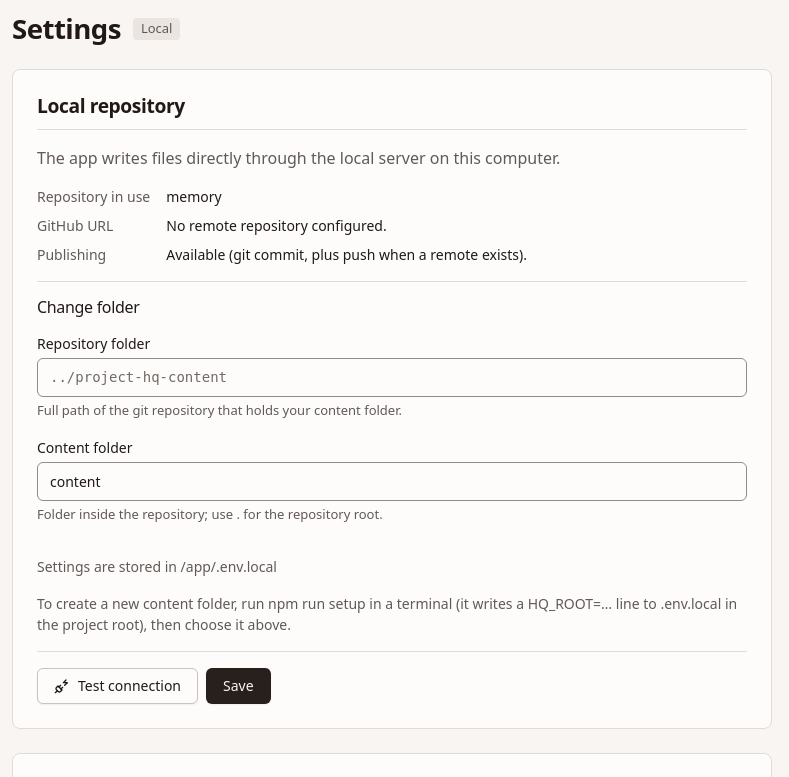
local repository form › shows a translated error for a missing folder
Type "/x" into the field labelled "Repository folder" at x=392, y=378, box [37, 358, 747, 397]
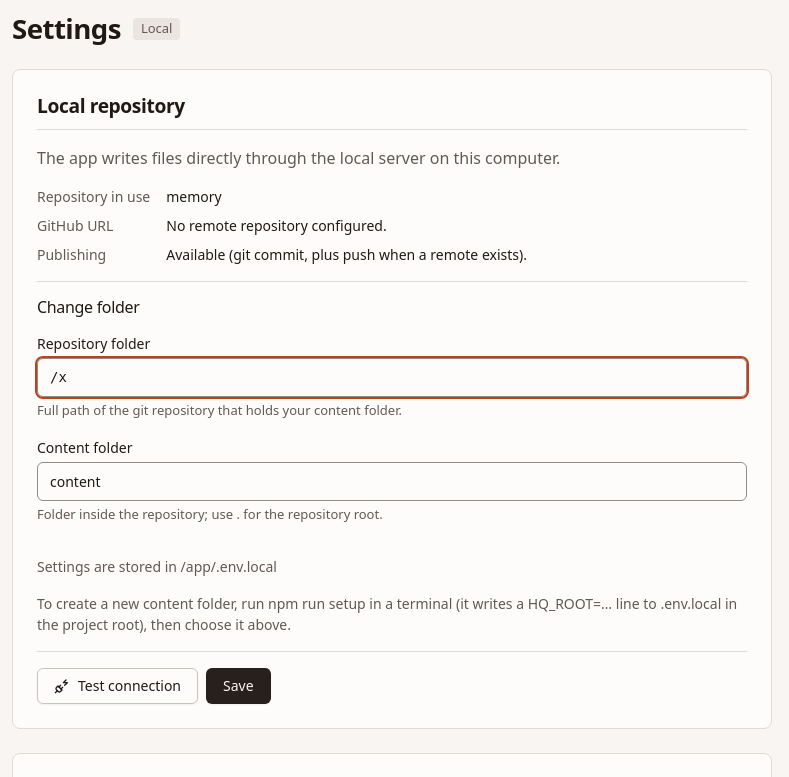
Click the button "Save" at x=238, y=686, box [206, 668, 271, 704]
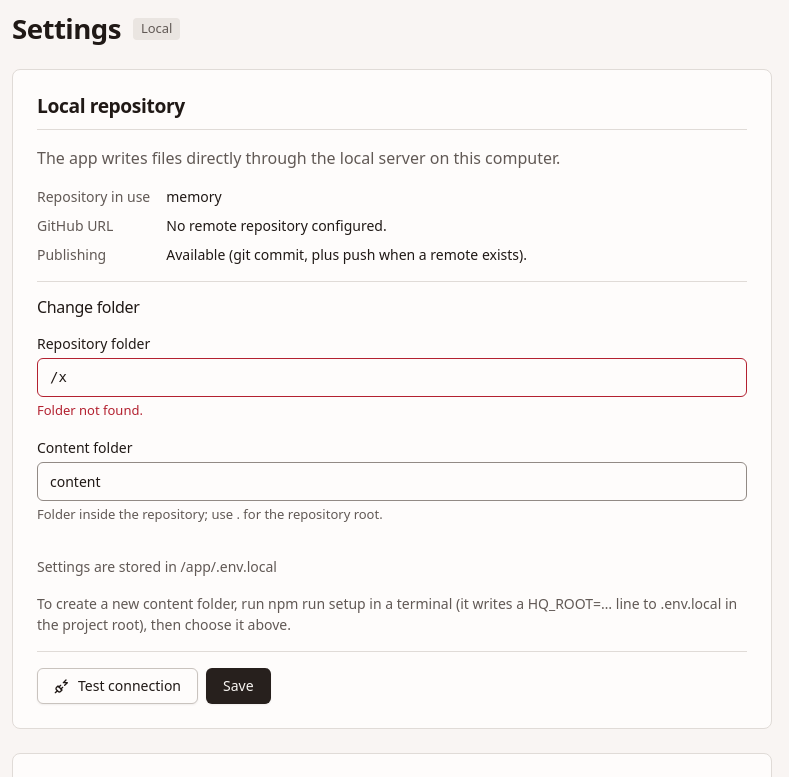
Expected: the text "Folder not found." is shown, [37, 401, 143, 419]
